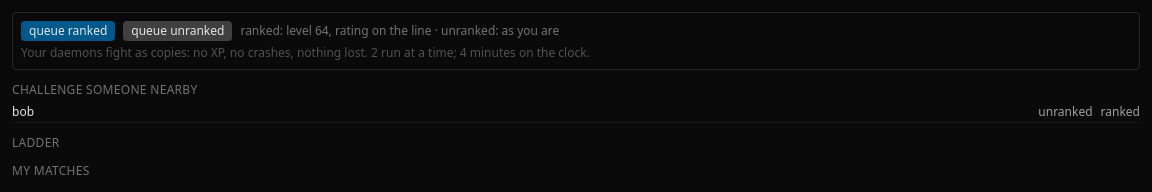
Scenario: ArenaPanel challenges › challenges someone nearby in either mode, one command at a time
The width and height of the screenshot is (1152, 192).
Click the button with test id "arena-challenge-bob-ranked": click(1120, 112) [1101,104,1140,120]
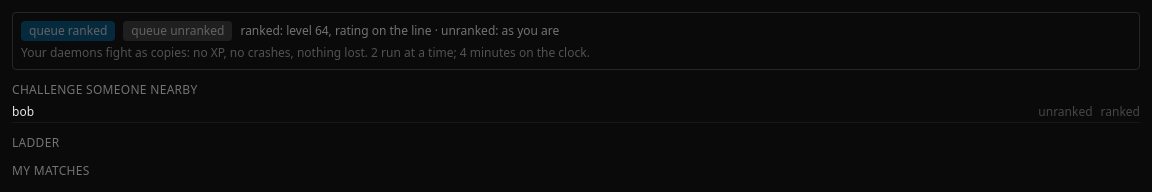
Expected: the button with test id "arena-challenge-bob-unranked" is disabled, [1038,104,1093,120]
